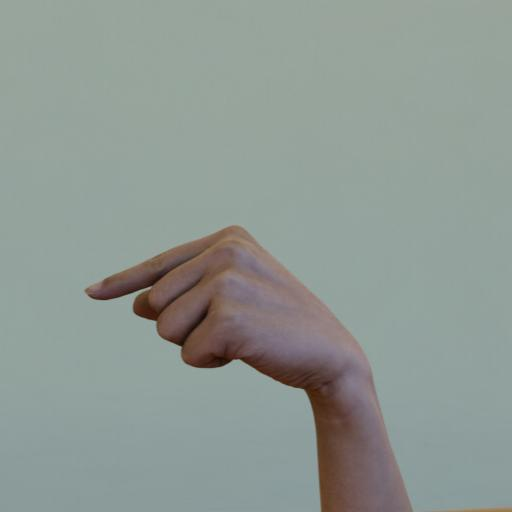G: (85, 214, 363, 401)
